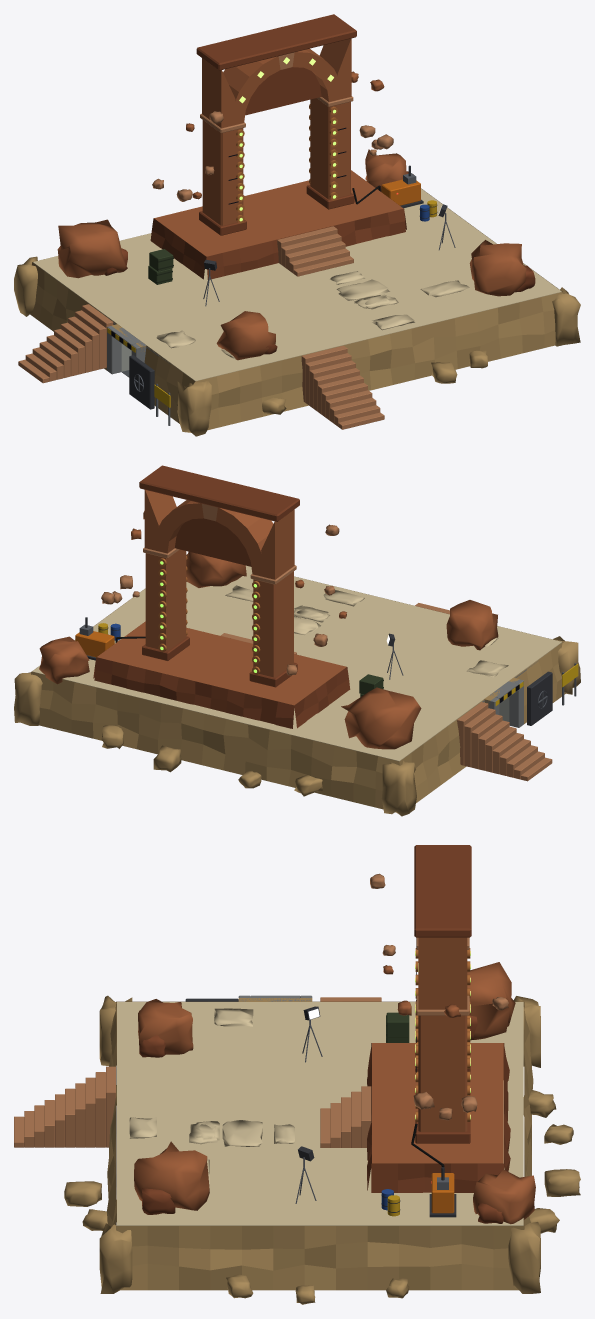
The model's file is tf-portal-p2.glb.
The picture shows the model from 3 angles, top to bottom: view 1: azimuth 30°, elevation 25°; view 2: azimuth 150°, elevation 25°; view 3: azimuth 270°, elevation 25°; orthographic projection. The views are drawn at different scales.
Visible parts, largest first — view 1: tf-portal-p2; view 2: tf-portal-p2; view 3: tf-portal-p2.
Boxes of the visible parts, <box> form: tf-portal-p2: <box>14,14,580,436</box>; tf-portal-p2: <box>14,465,580,816</box>; tf-portal-p2: <box>14,845,580,1304</box>.
Size of the model in its own units: 33.56 by 16.5 by 27.76.
